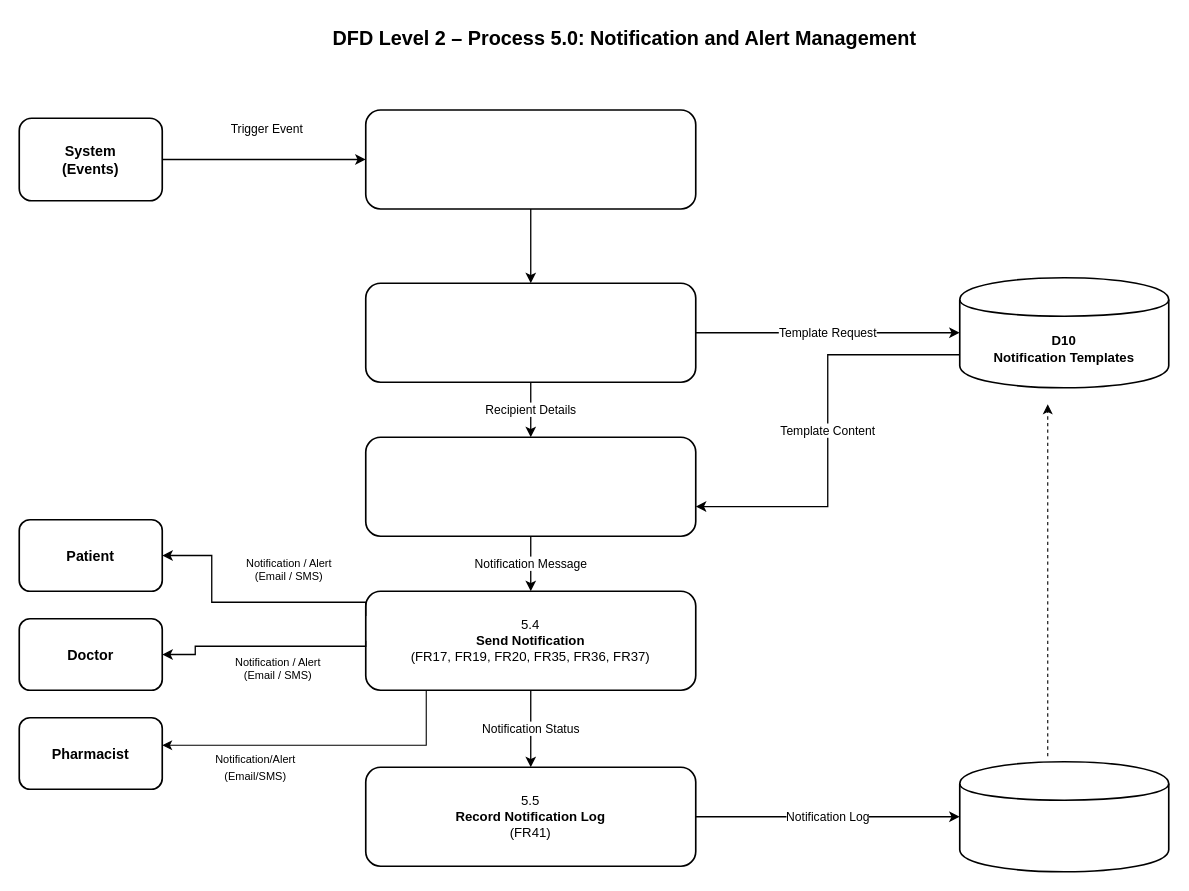
Some shapes in this 1189 by 891 pixel diagram are drawn without their labels. The box of each missing label's shape, as (x1, y1, x2, y2) in pixels:
5.1 Identify Notification/Event (FR17, FR20, FR35, FR36, FR37): (364, 109, 696, 209)
5.2 Determine Recipient (FR17, FR19, FR20, FR35, FR36, FR37): (364, 282, 696, 383)
5.3 Compose Notification Message (FR17, FR19, FR20, FR35, FR36, FR37): (364, 436, 696, 537)
D12 Notification Logs: (958, 760, 1169, 872)
